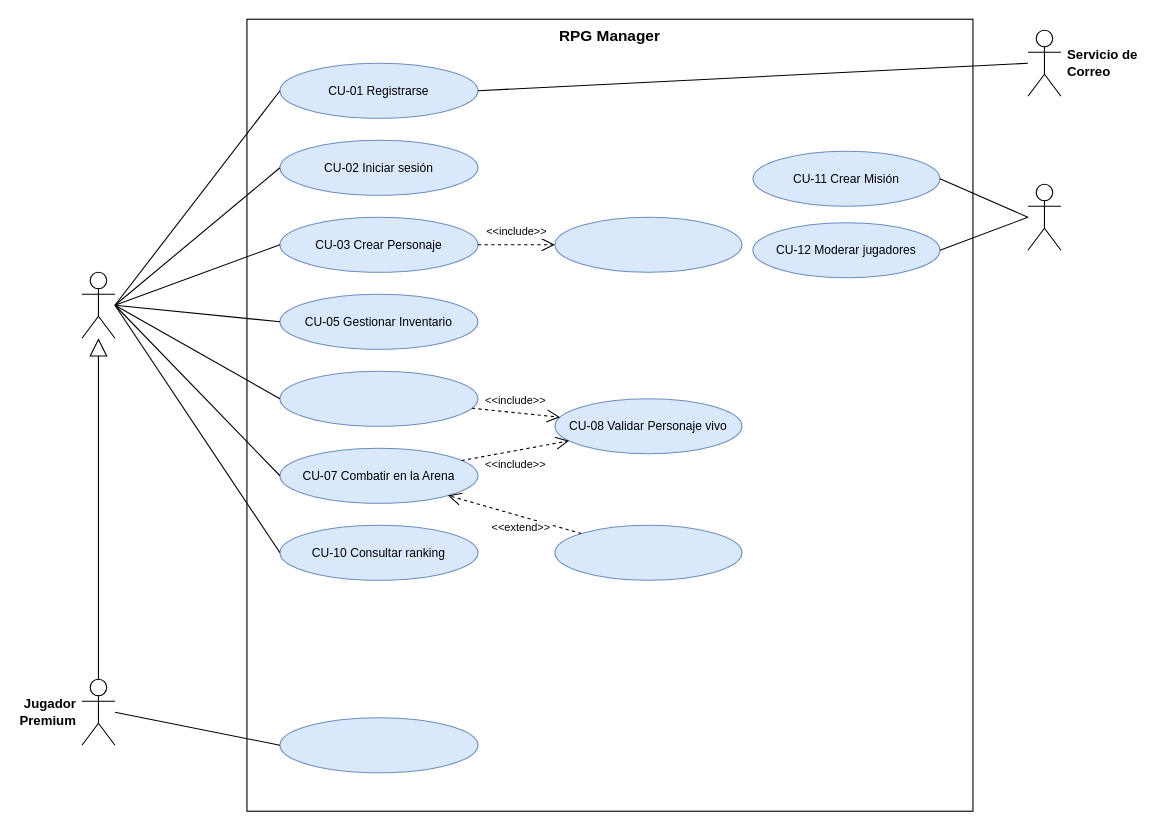
Some shapes in this 1168 by 831 pixel diagram are drawn without their labels. Here are the shapes that lost their labels. From the top down, the box of each, then its label:
(1027, 183, 1061, 250): Game Master
(554, 216, 742, 272): CU-04 Elegir clase (Guerrero, Mago, Arquero)
(81, 271, 115, 338): Jugador
(279, 370, 478, 426): CU-06 Unirse a Misión
(554, 524, 742, 580): CU-09 Usar poción
(279, 717, 478, 773): CU-13 Comprar ítem exclusivo
